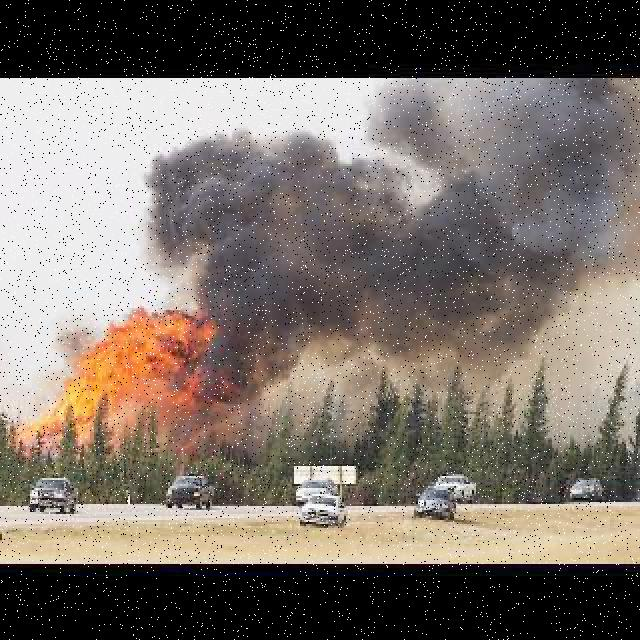fire: (38, 333, 168, 449)
smoke: (151, 81, 640, 378)
